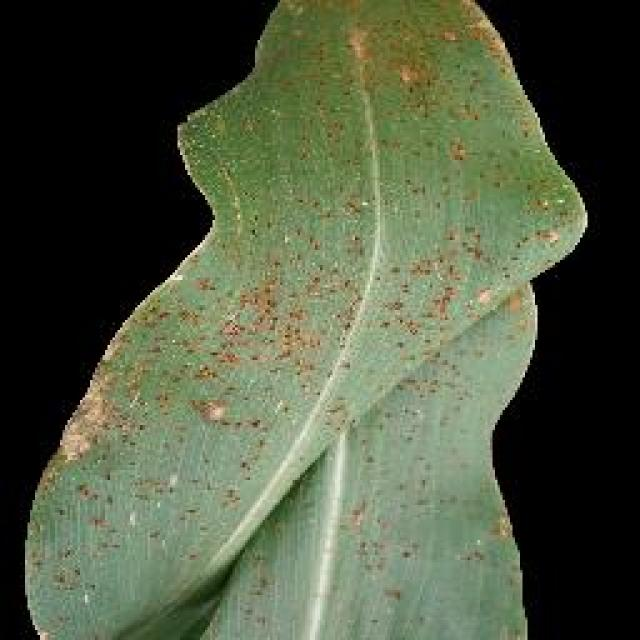Corn Common Rust: (184, 168, 548, 547)
